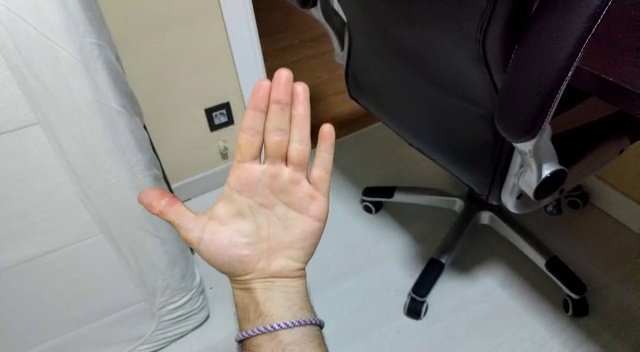Palm: (131, 66, 339, 287)
